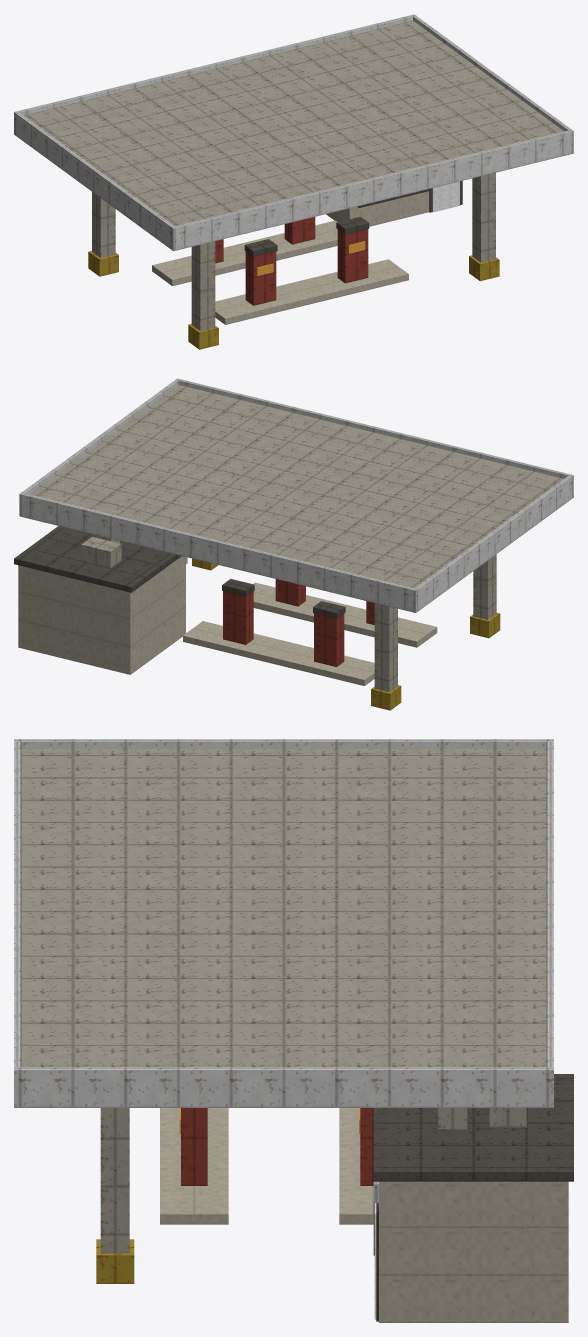
3 renders of one model, top to bottom at view 1: azimuth 30°, elevation 25°; view 2: azimuth 150°, elevation 25°; view 3: azimuth 270°, elevation 25°, orthographic. The views are drawn at different scales.
Parts seen in each view (by area): view 1: site_gas_station_restored; view 2: site_gas_station_restored; view 3: site_gas_station_restored.
Boxes of the visible parts, <box> form: site_gas_station_restored: <box>14,14,573,349</box>; site_gas_station_restored: <box>14,378,573,710</box>; site_gas_station_restored: <box>14,739,573,1322</box>.
Bounding box in the file's own units: 14.84 × 5.35 × 10.62.
9 materials, 9 textured.
